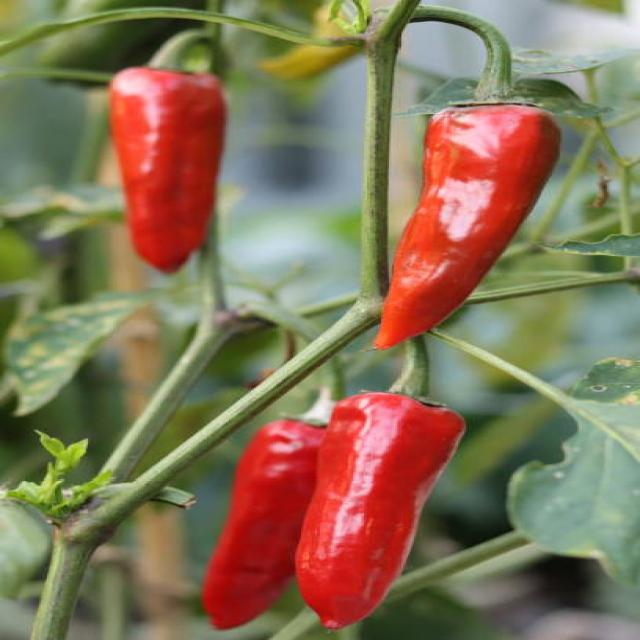Ripe: (375, 105, 563, 350), (293, 393, 467, 633), (199, 418, 328, 634), (107, 68, 227, 277)
